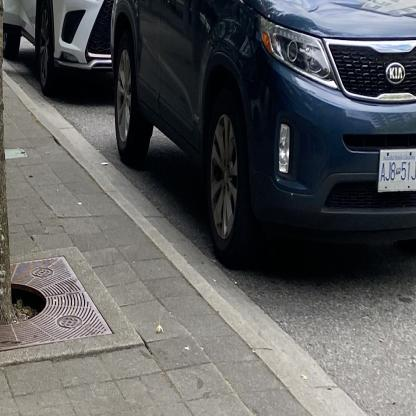License-Plate: (376, 134, 416, 216)
